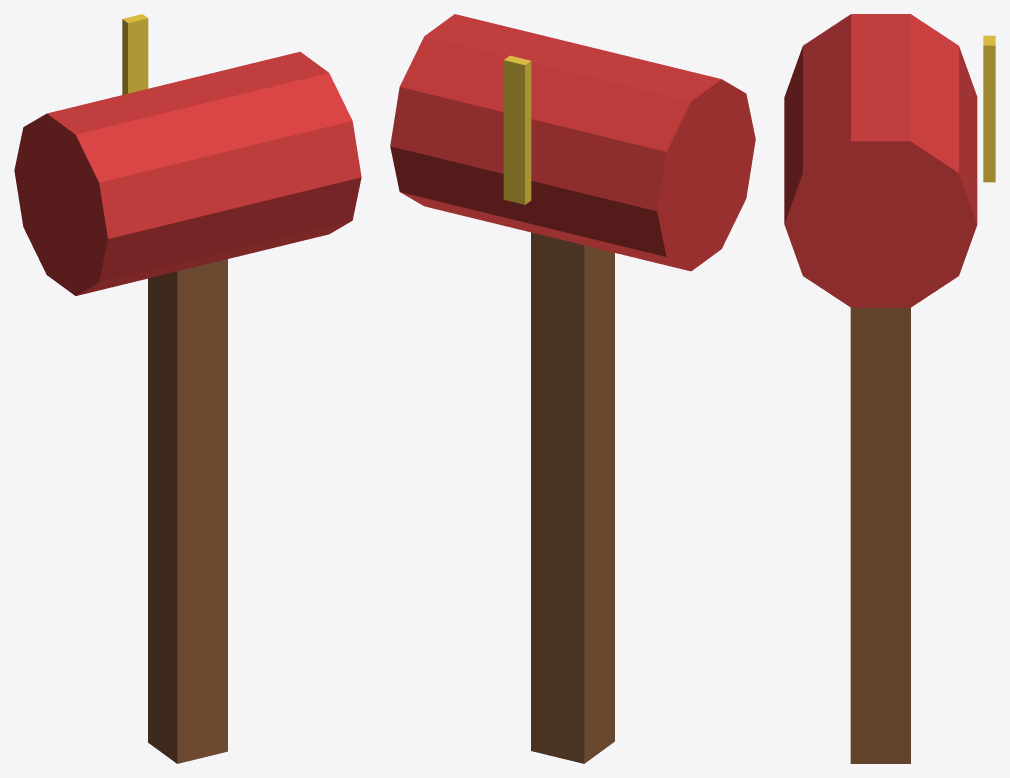
The model's file is mailbox.glb.
The picture shows the model from 3 angles, left to right: view 1: azimuth 30°, elevation 25°; view 2: azimuth 150°, elevation 25°; view 3: azimuth 270°, elevation 25°; orthographic projection. The views are drawn at different scales.
Parts seen in each view (by area): view 1: mailbox; view 2: mailbox; view 3: mailbox.
Boxes of the visible parts, x1,y1,x2,y2 form: mailbox: [14, 14, 361, 763]; mailbox: [390, 14, 755, 763]; mailbox: [784, 14, 995, 763].
Bounding box in the file's own units: 0.5 × 1.3 × 0.35.
3 materials, 1 textured.
